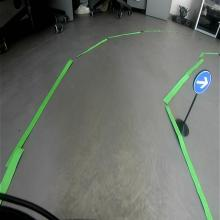right: (192, 70, 213, 94)
